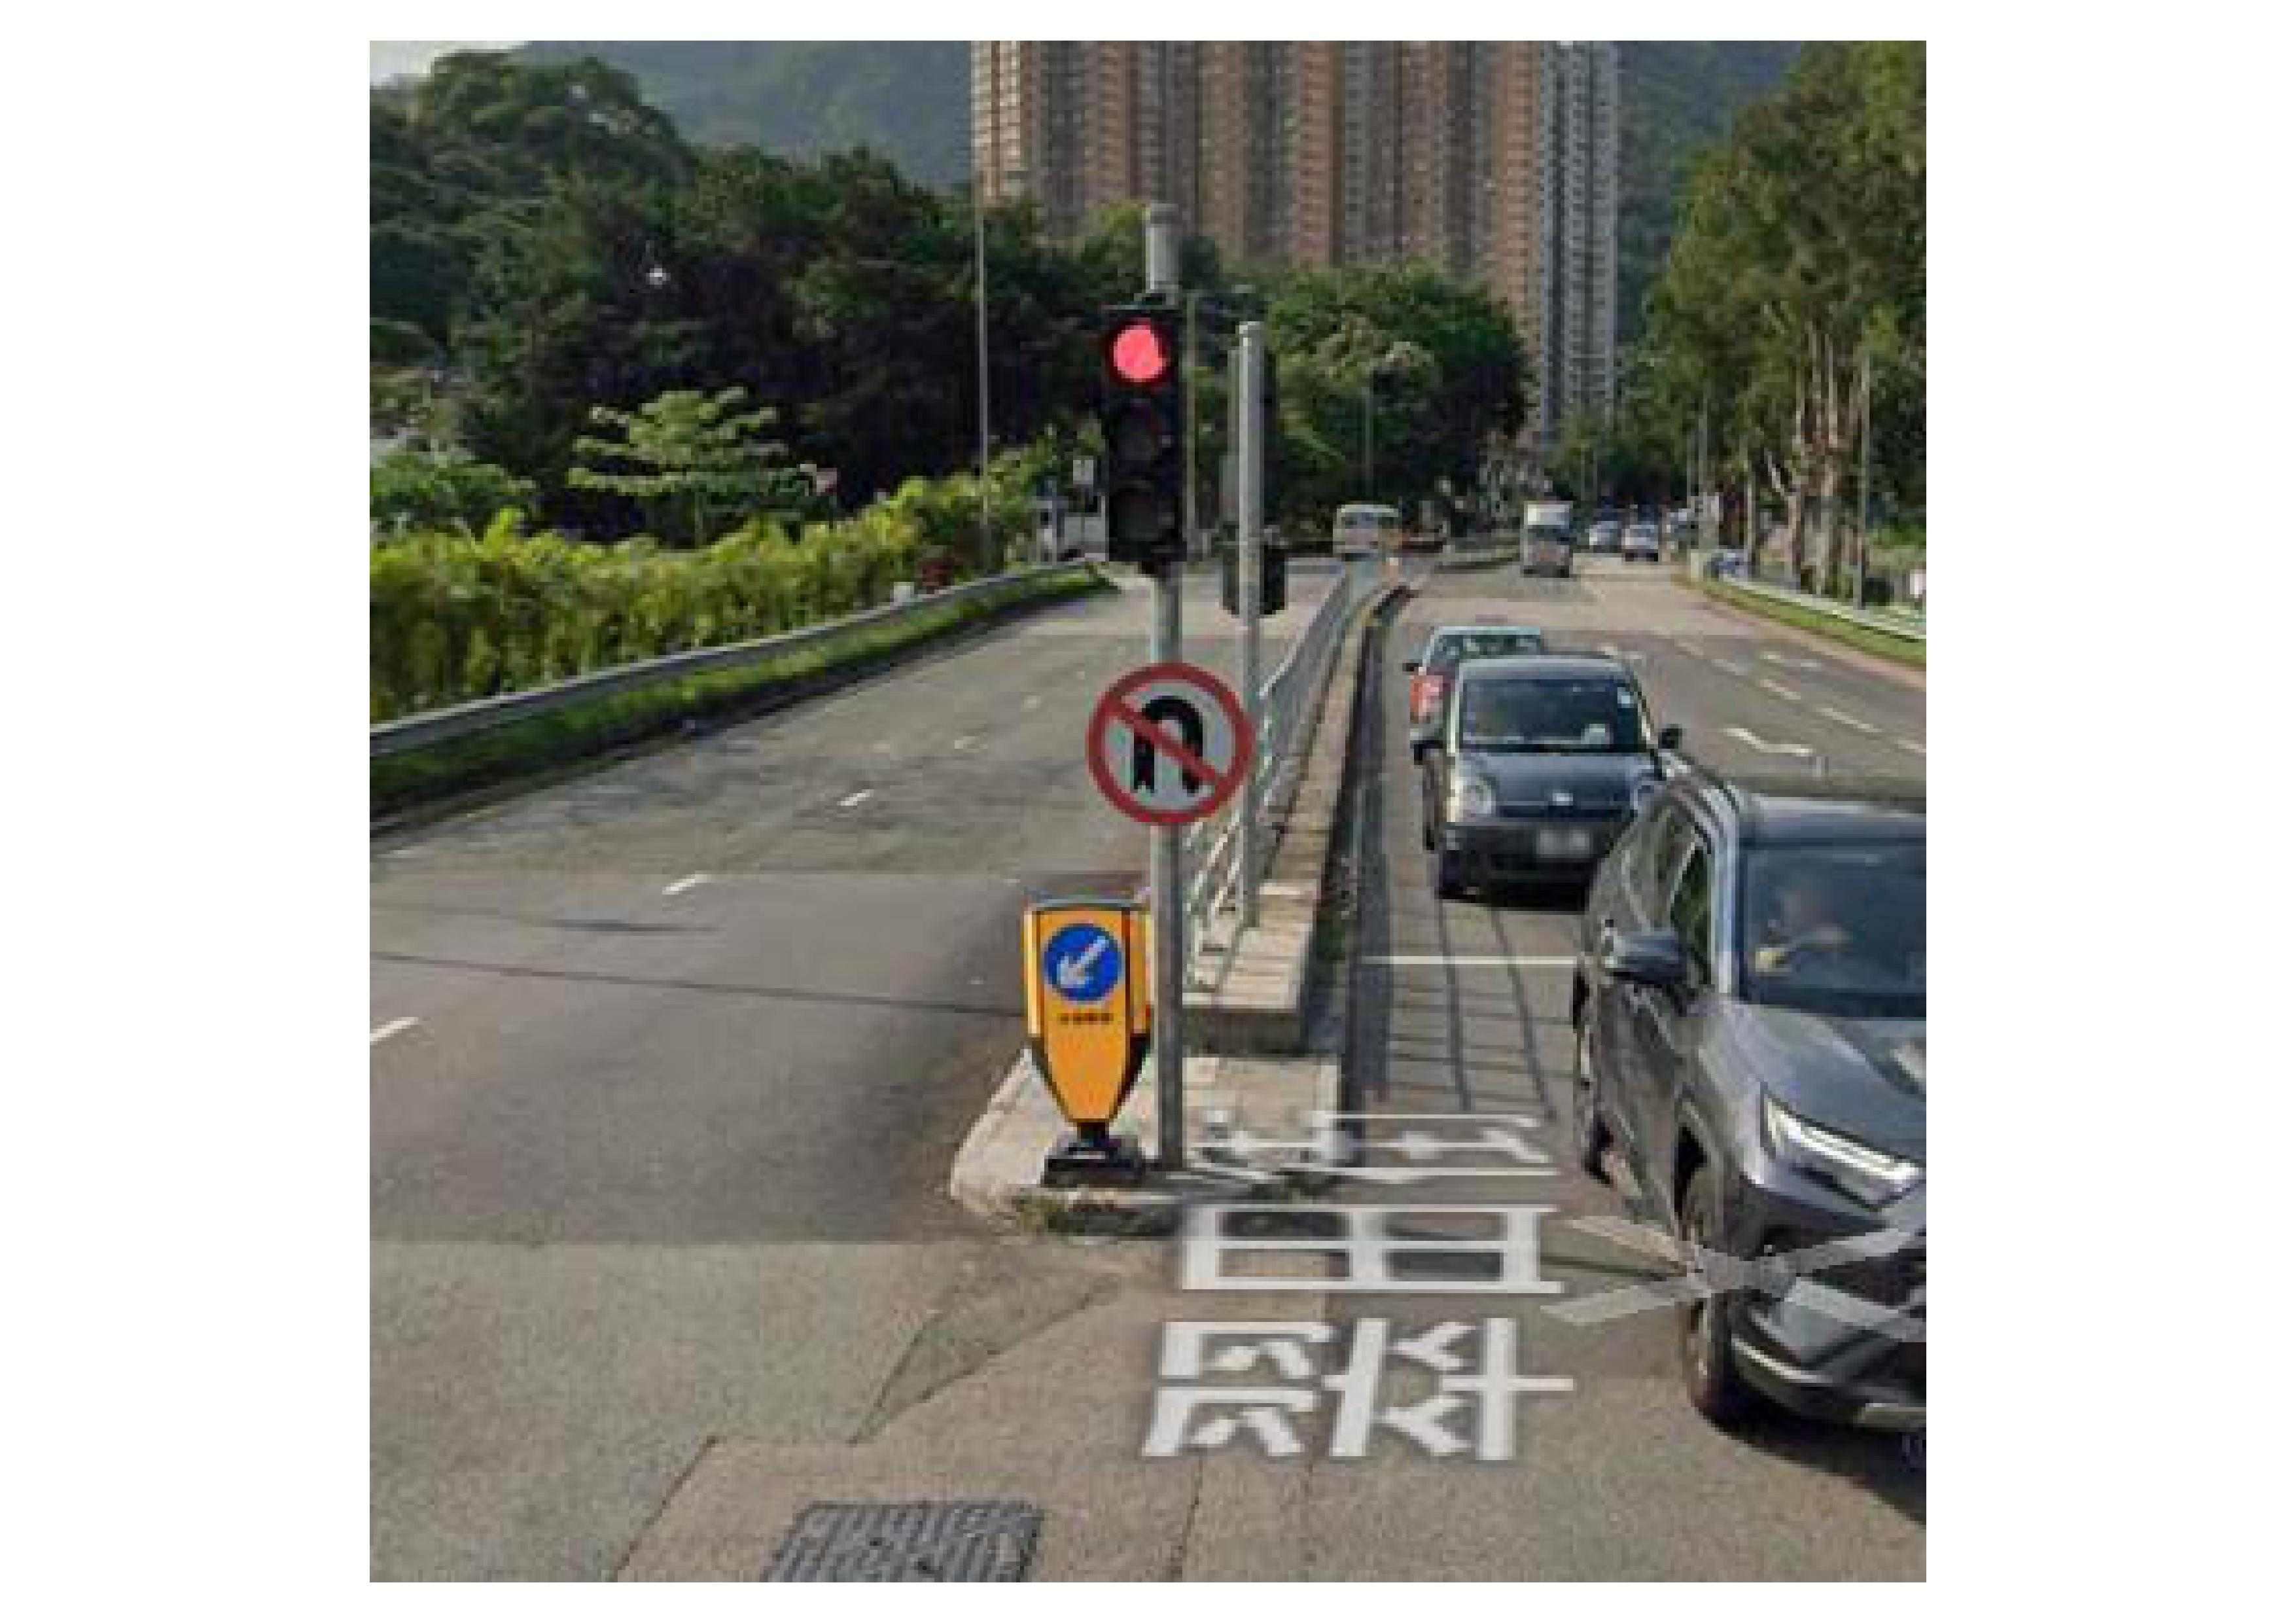No Uturn: (1083, 645, 1245, 824)
